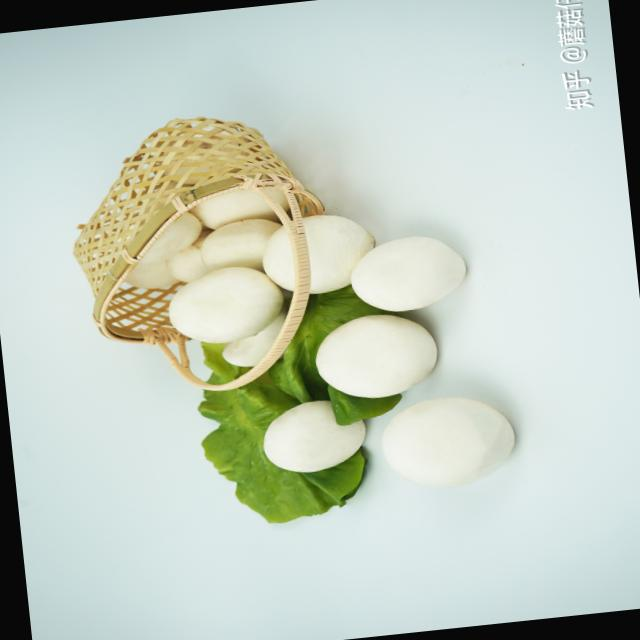Agaricus bisporus: (379, 389, 521, 491), (310, 306, 443, 404), (344, 225, 471, 311), (255, 210, 372, 294), (165, 260, 280, 344), (259, 392, 372, 474)
